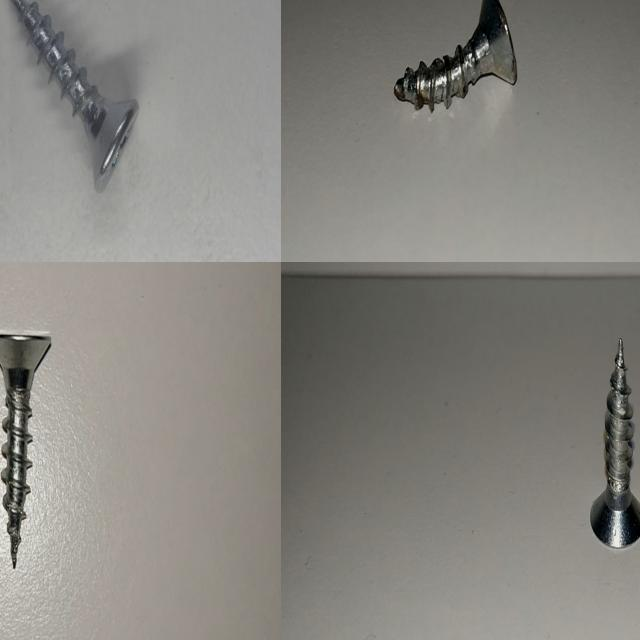Screw: (11, 0, 139, 191), (394, 0, 516, 111), (0, 329, 51, 567), (590, 337, 640, 547)
